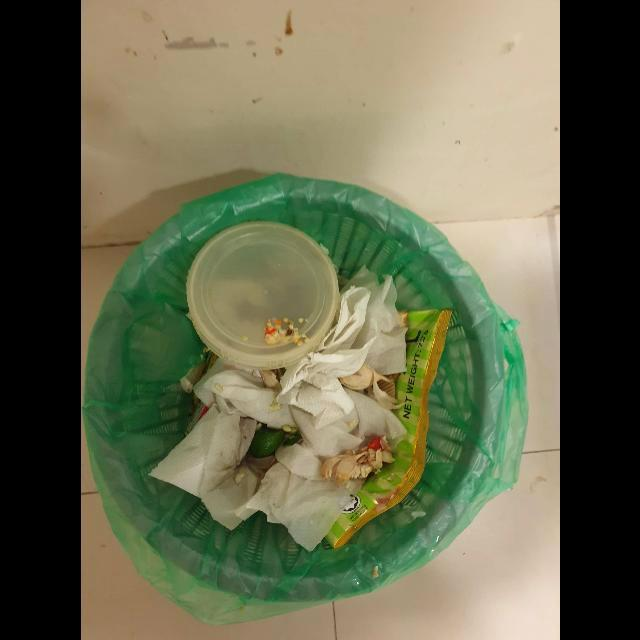food_wrapper: (325, 310, 452, 550)
paper: (235, 265, 407, 552), (148, 359, 294, 531)
